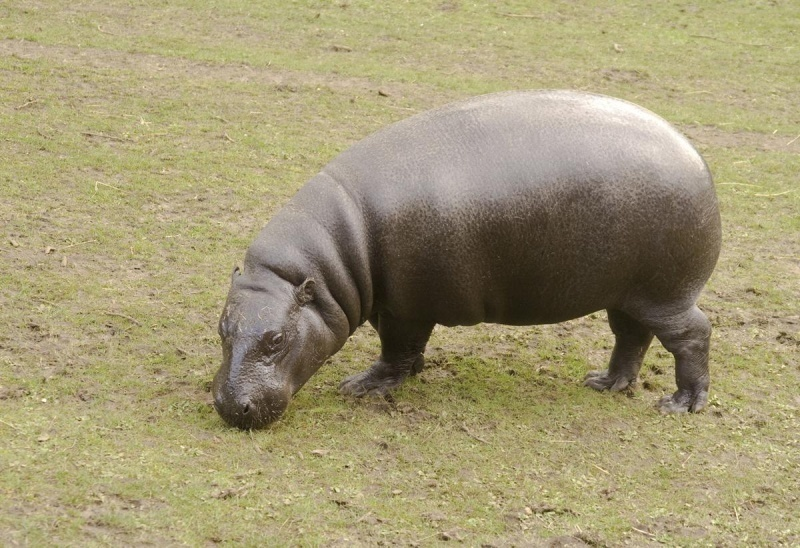hipopotamo: (193, 89, 727, 451)
